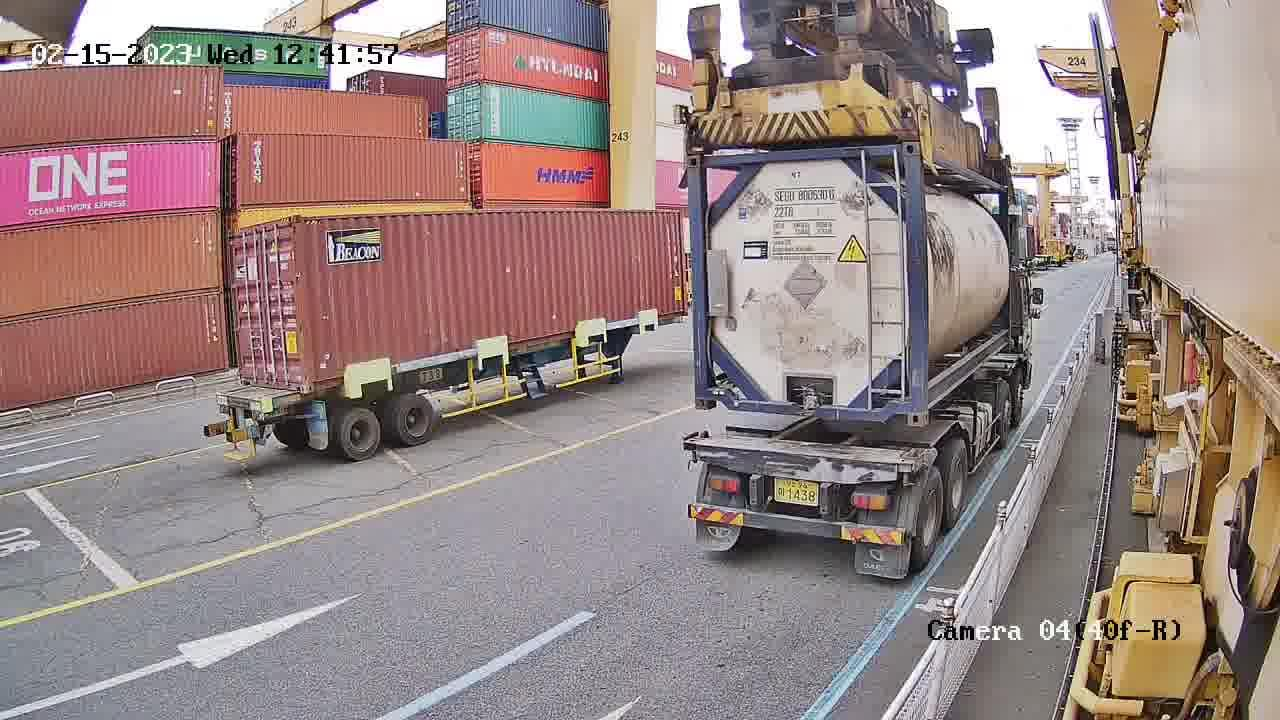Chassis: (681, 443, 914, 484)
Cone: (679, 442, 700, 471), (897, 462, 917, 488)
Hole_L: (924, 374, 947, 430), (692, 374, 727, 410)
Hole_R: (887, 386, 924, 427)
Tire: (913, 478, 945, 565), (944, 448, 970, 523)
